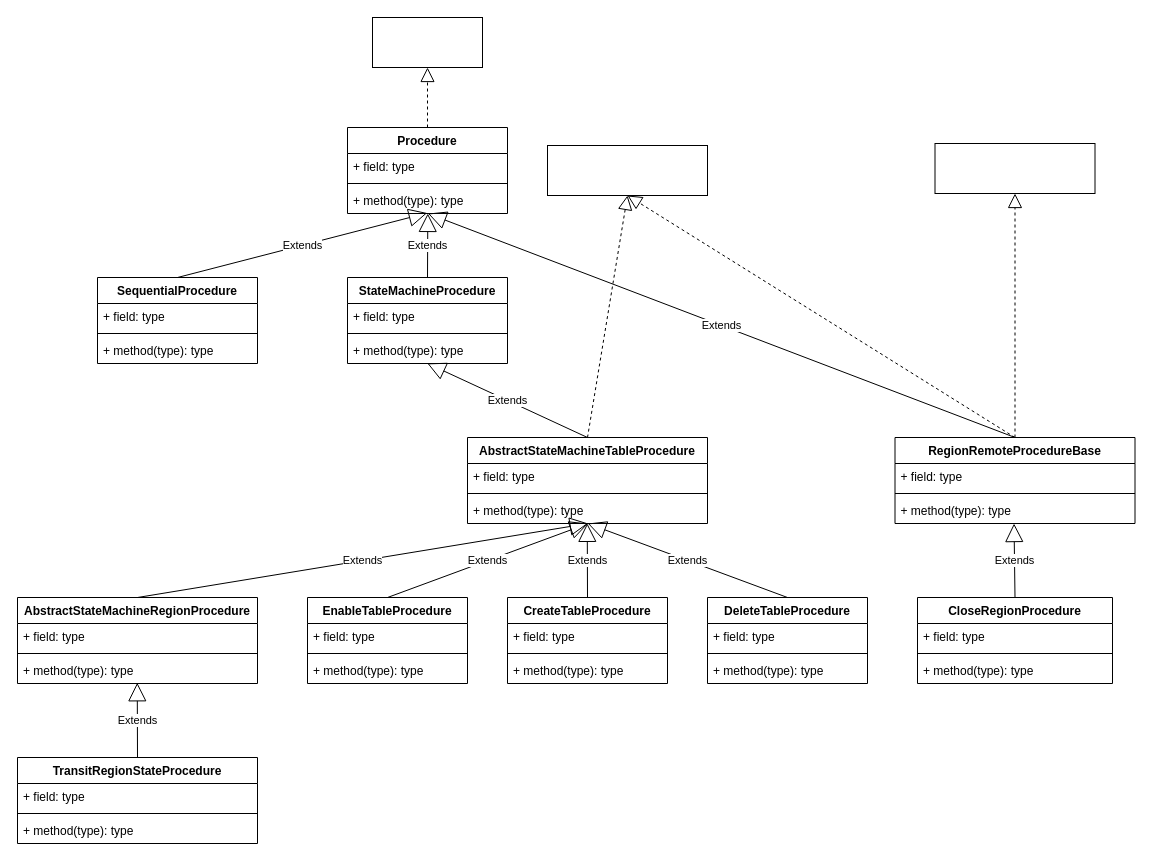
The diagram is 1153 pixels wide and 864 high, and some of its shapes have lost their labels. The shapes that lost their labels are listed below. From the top down, each one's centre as x and y in pixels, then its label:
At (x=427, y=42): "«interface» Comparable".
At (x=627, y=170): "«interface» TableProcedureInterface".
At (x=1014, y=168): "«interface» RemoteProcedure".
